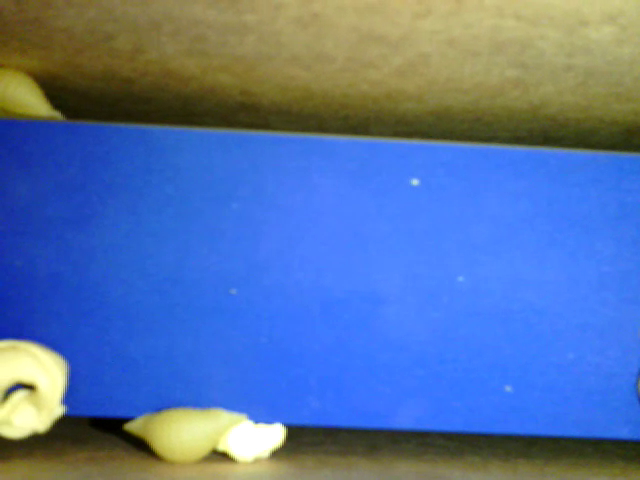shell: (119, 404, 251, 464), (2, 68, 74, 127)
tortellini: (3, 335, 71, 445)
